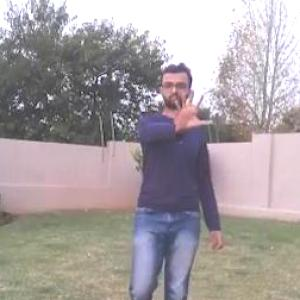follow_hand: (168, 84, 215, 134)
